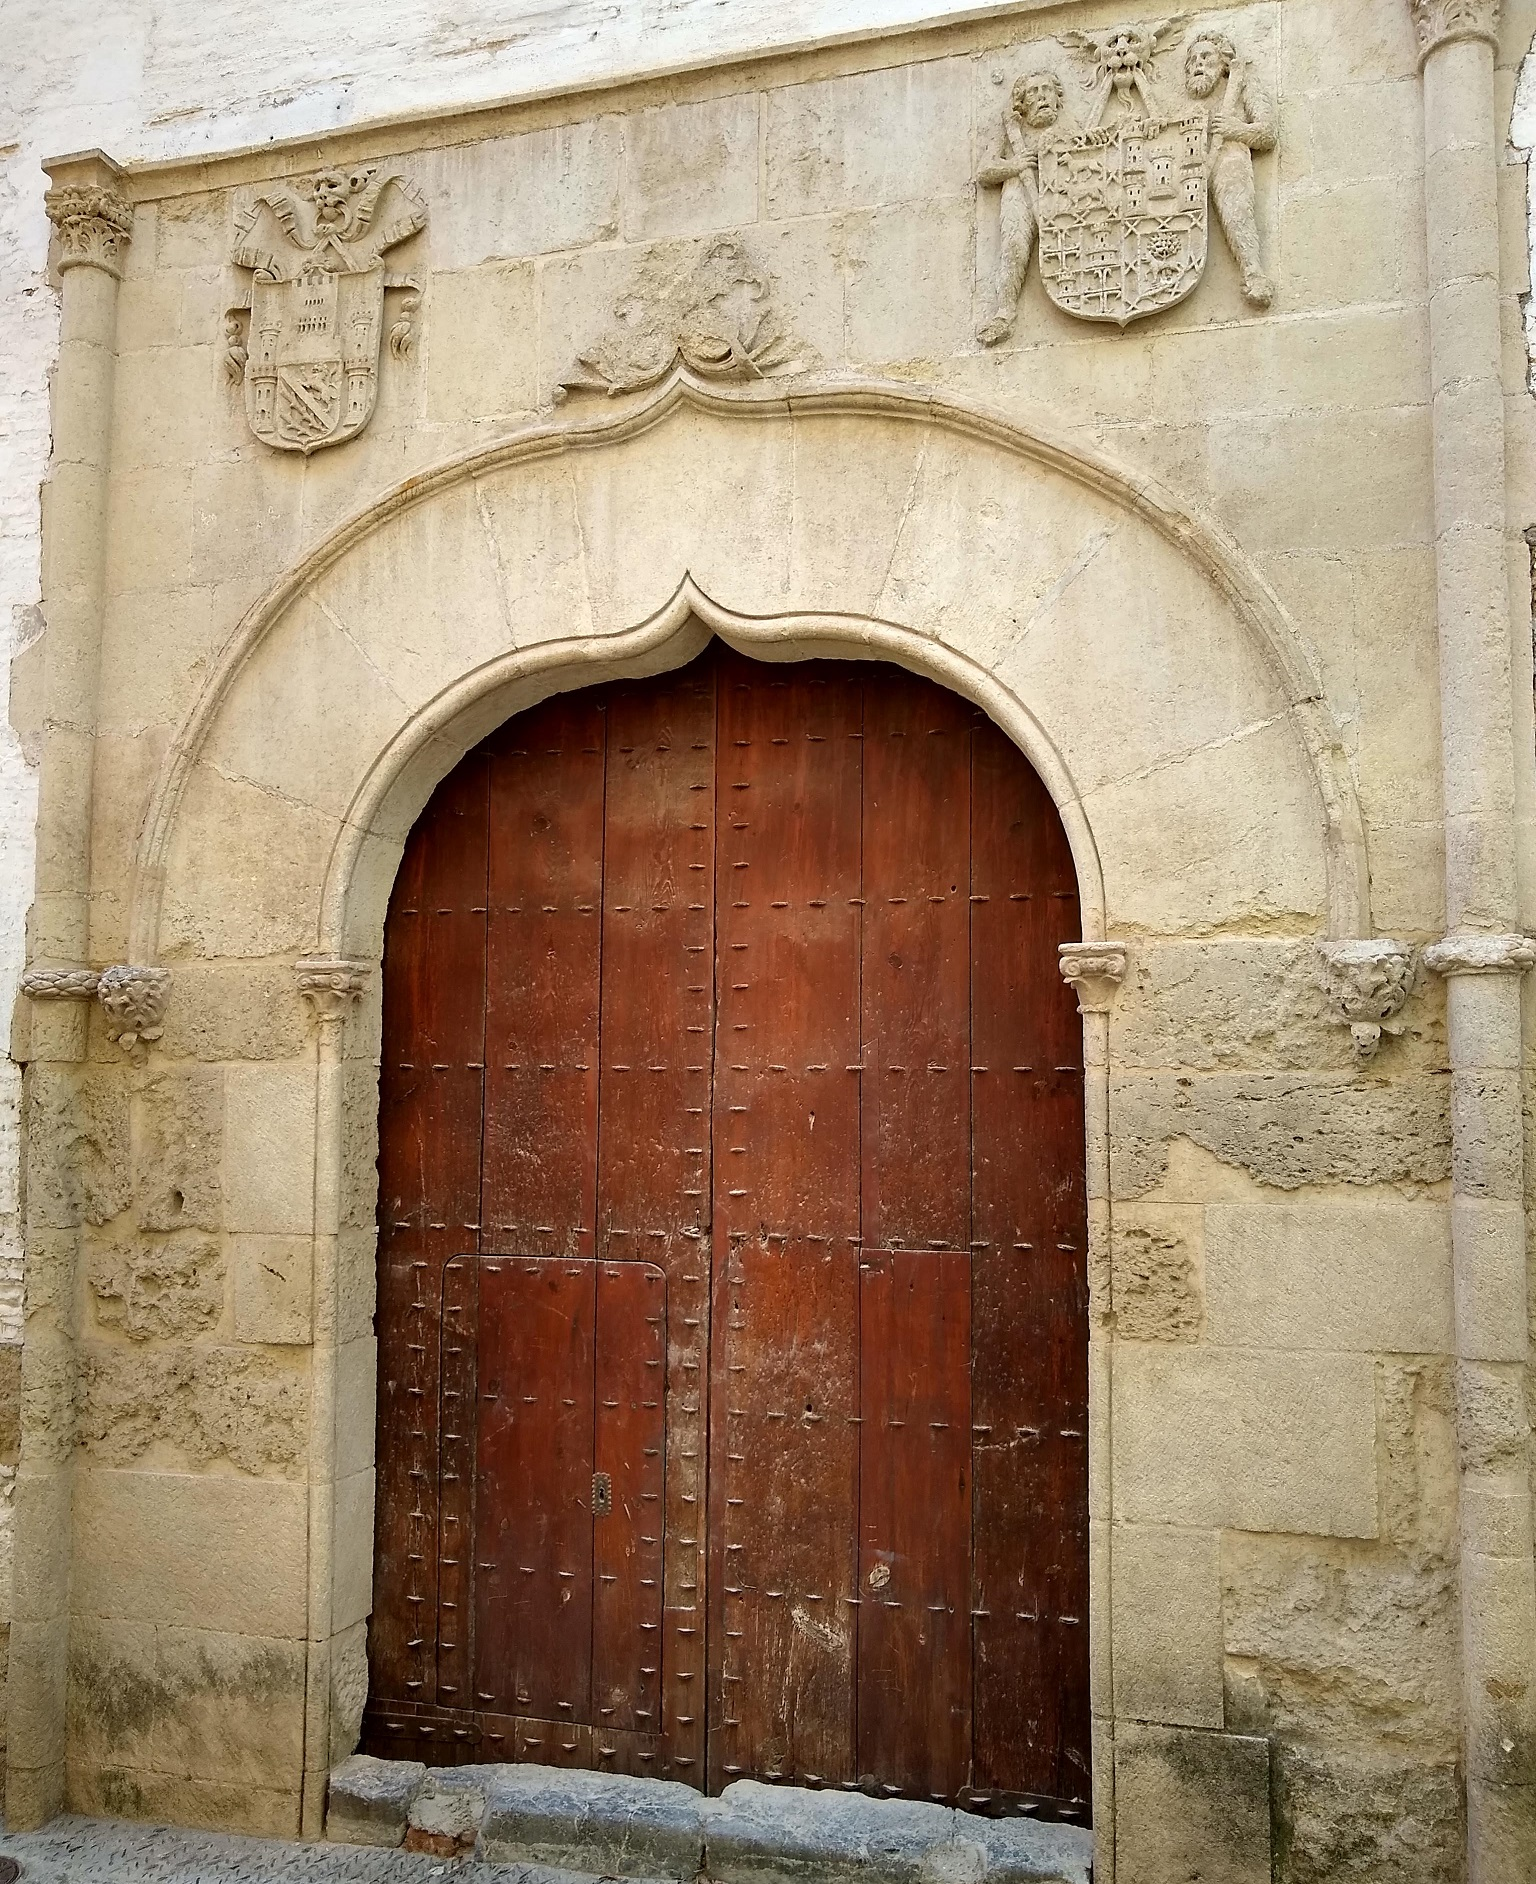arco-conopial: (324, 557, 1103, 815)
